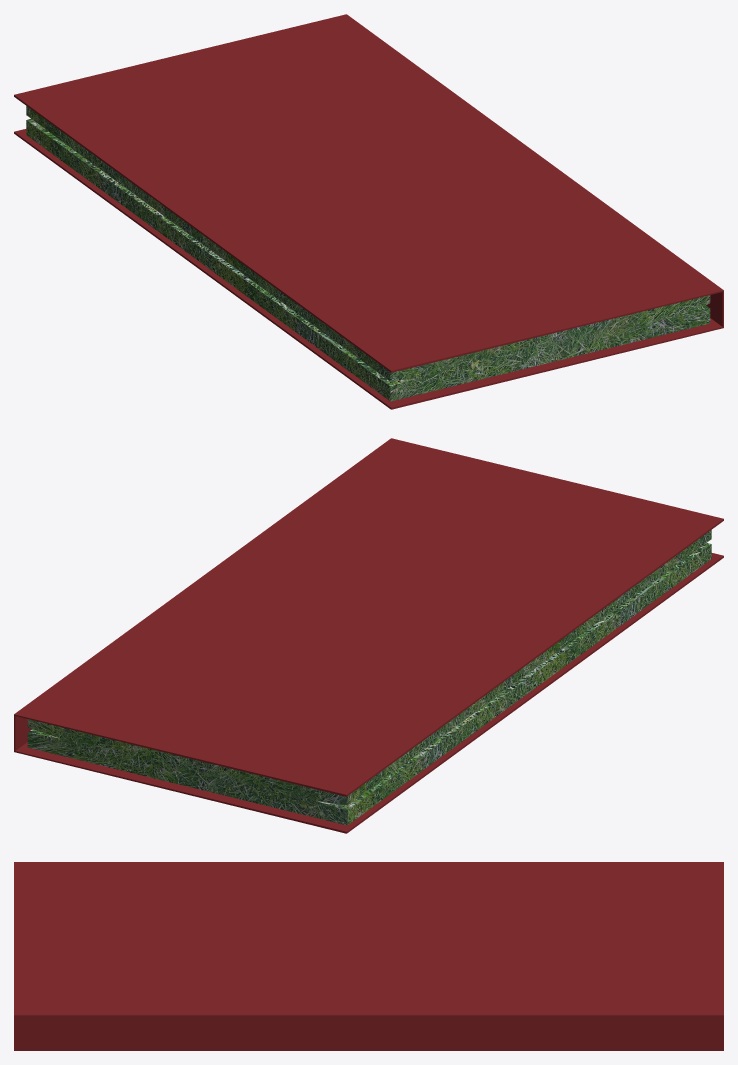
File: hon3.fbx
3 renders of one model, top to bottom at view 1: azimuth 30°, elevation 25°; view 2: azimuth 150°, elevation 25°; view 3: azimuth 270°, elevation 25°, orthographic. The views are drawn at different scales.
Visible parts, largest first — view 1: Plane; view 2: Plane; view 3: Plane.
Part boxes in pixels (left/top/right/bottom): Plane: left=14, top=14, right=723, bottom=409; Plane: left=14, top=438, right=723, bottom=833; Plane: left=14, top=862, right=723, bottom=1050.
Size of the model in its own units: 202 by 22.58 by 398.
